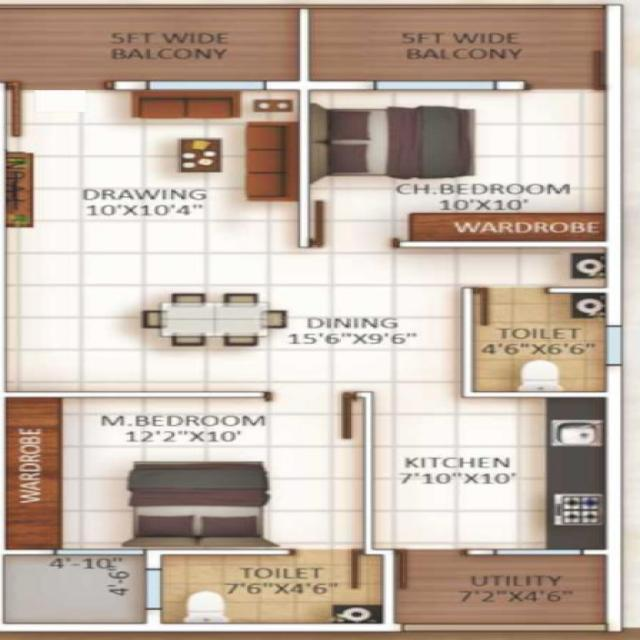Balcony-Sitout: (1, 7, 301, 81), (307, 7, 607, 81)
Bedroom: (308, 85, 607, 245)
Bedroom with Toilet: (5, 393, 390, 627)
Dining: (133, 287, 289, 352)
Enterance-Foyer: (8, 84, 121, 142)
Kitchen: (371, 394, 607, 553)
Living: (5, 82, 301, 253)
Toilet: (162, 555, 383, 625), (470, 289, 604, 392)
Utility: (390, 554, 613, 627)
